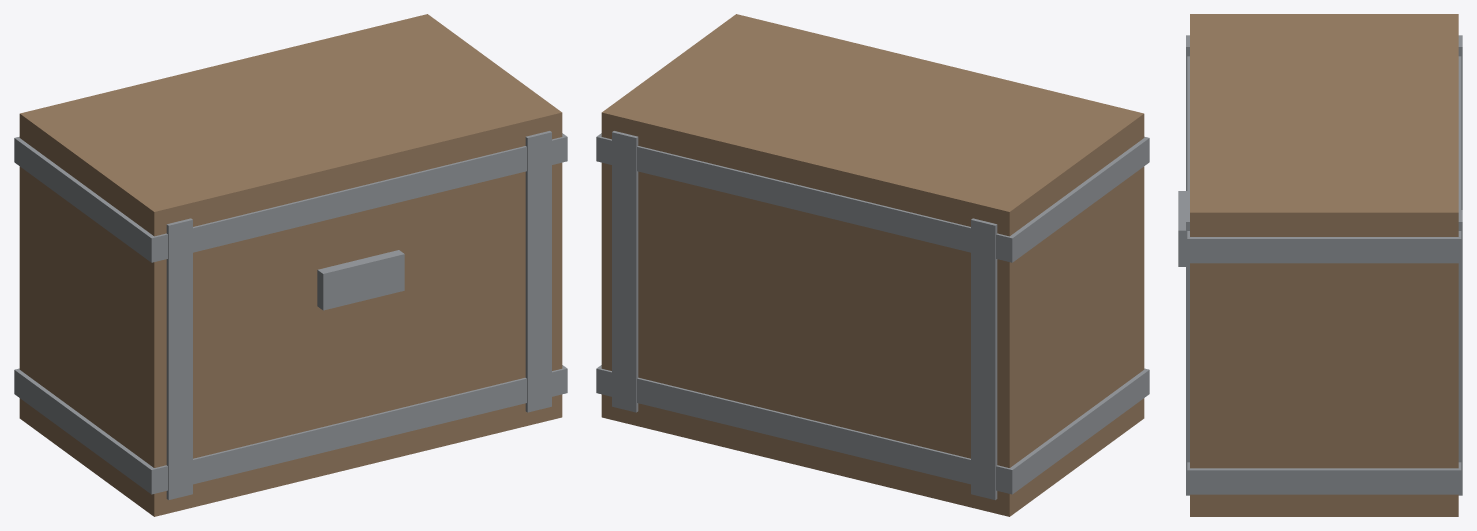
File: large_box.glb
3 renders of one model, left to right at view 1: azimuth 30°, elevation 25°; view 2: azimuth 150°, elevation 25°; view 3: azimuth 270°, elevation 25°, orthographic.
Parts seen in each view (by area): view 1: large_box; view 2: large_box; view 3: large_box.
Boxes of the visible parts, bbox=[...] form: large_box: bbox=[14, 14, 567, 516]; large_box: bbox=[596, 14, 1149, 516]; large_box: bbox=[1178, 14, 1462, 516].
Size of the model in its own units: 1.43 by 1 by 0.846.
